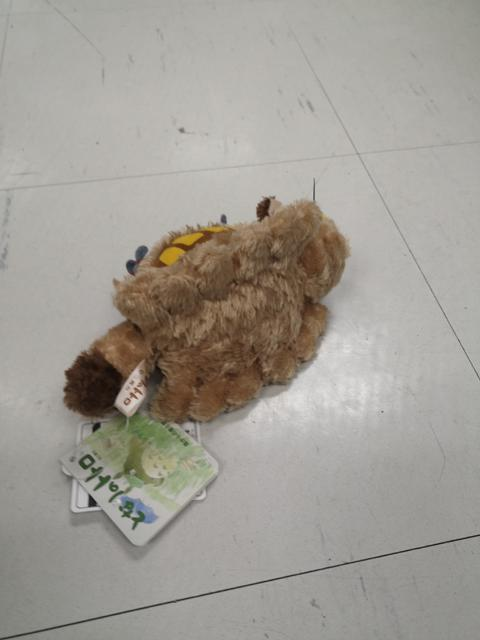nekobus: (56, 171, 358, 444)
